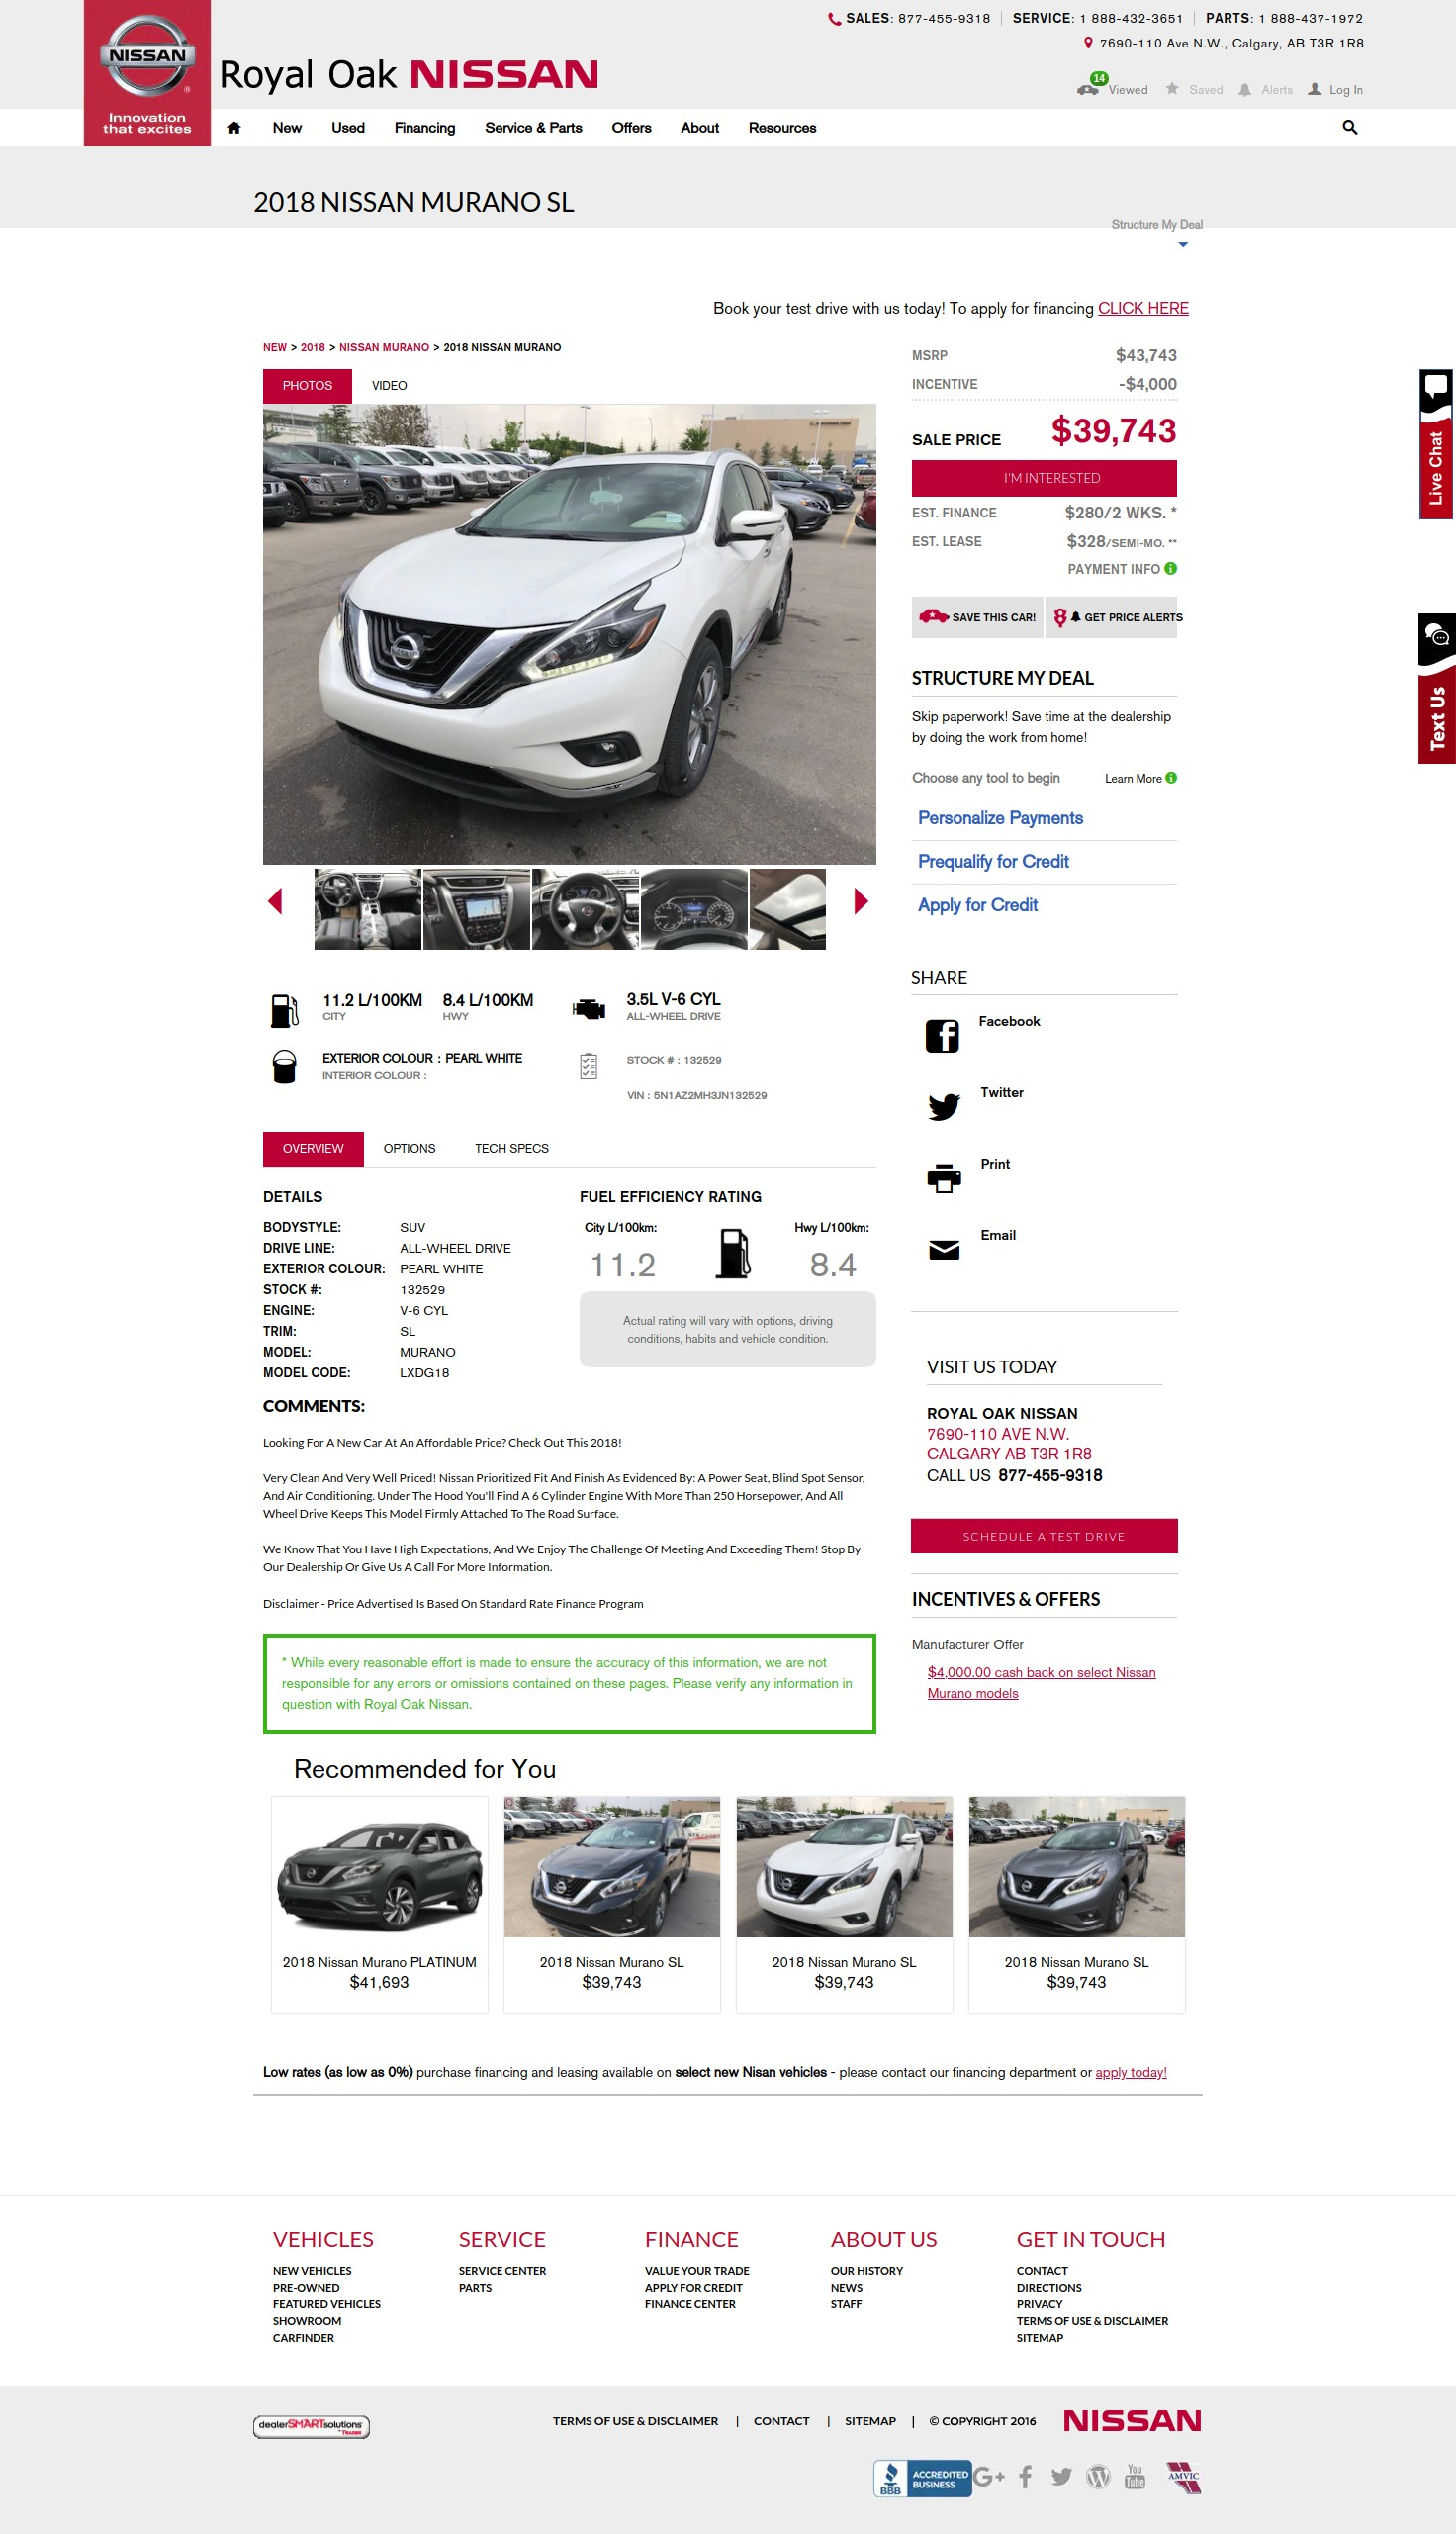car: (854, 886, 870, 917)
